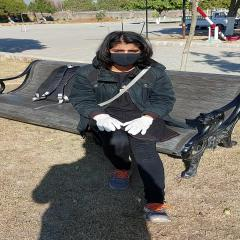gloved: (126, 116, 150, 136), (93, 114, 121, 130)
